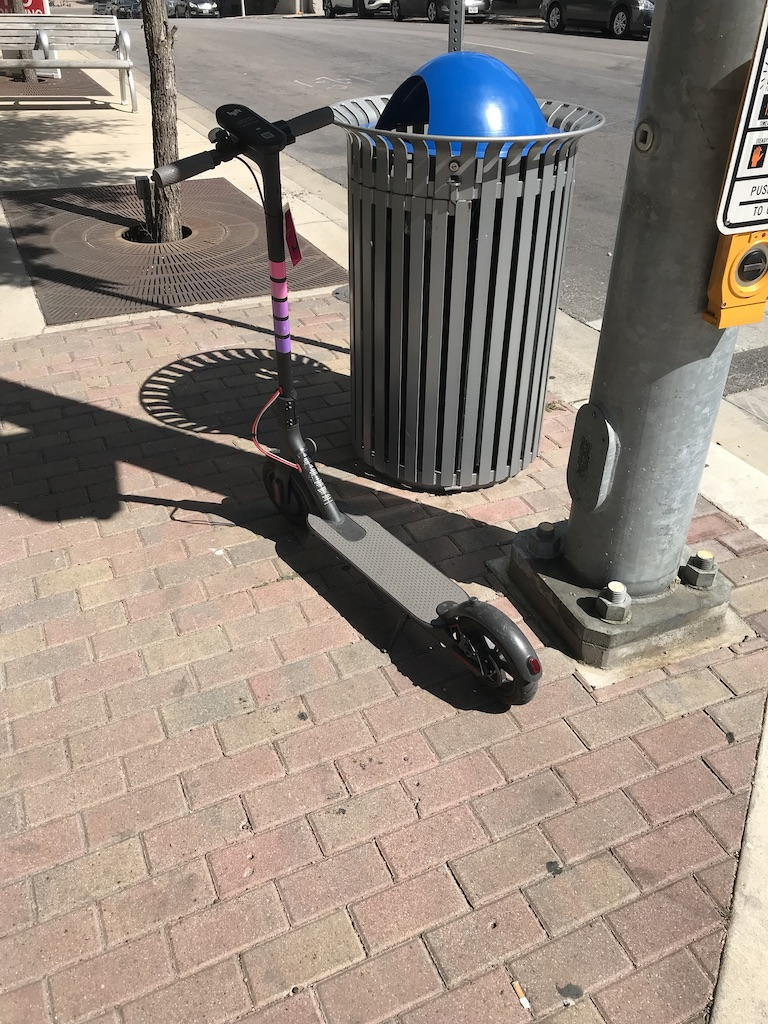scooter: (152, 102, 545, 709)
